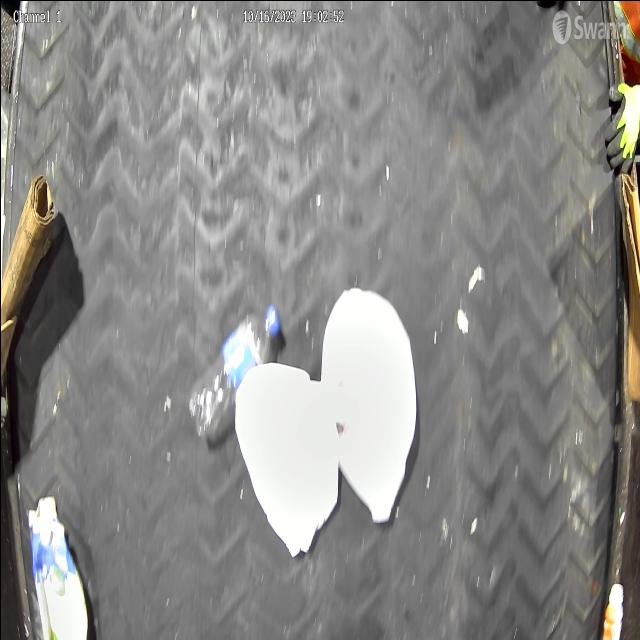milk_jug: (321, 286, 416, 524), (235, 360, 338, 556), (27, 492, 87, 640)
plastic_bottle: (188, 304, 282, 444)
